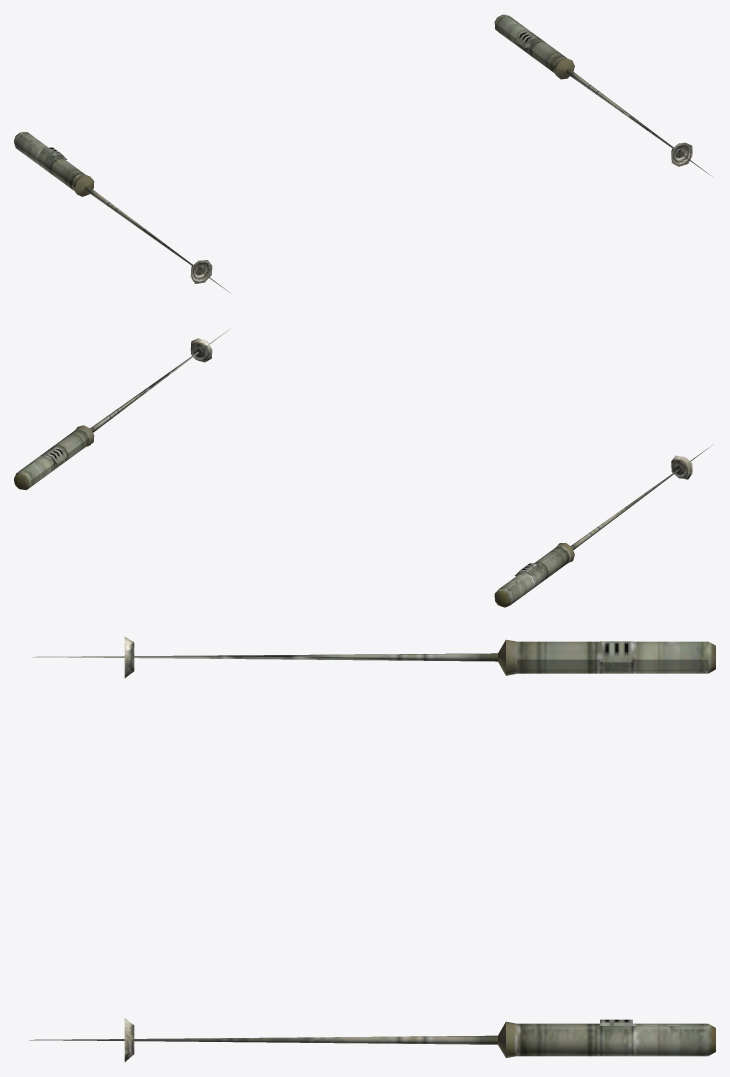
File: z95_weapon_s01_l0.fbx
3 views of the same model, one above another, from view 1: azimuth 30°, elevation 25°; view 2: azimuth 150°, elevation 25°; view 3: azimuth 270°, elevation 25° (orthographic). The views are drawn at different scales.
Parts seen in each view (by area): view 1: mesh_node; view 2: mesh_node; view 3: mesh_node.
Part boxes in pixels (x1,y1,x2,y2): mesh_node: (14, 14, 712, 292); mesh_node: (14, 328, 710, 607); mesh_node: (29, 636, 715, 1061).
Size of the model in its own units: 15.3 by 0.661 by 11.34.
1 material, 1 textured.
